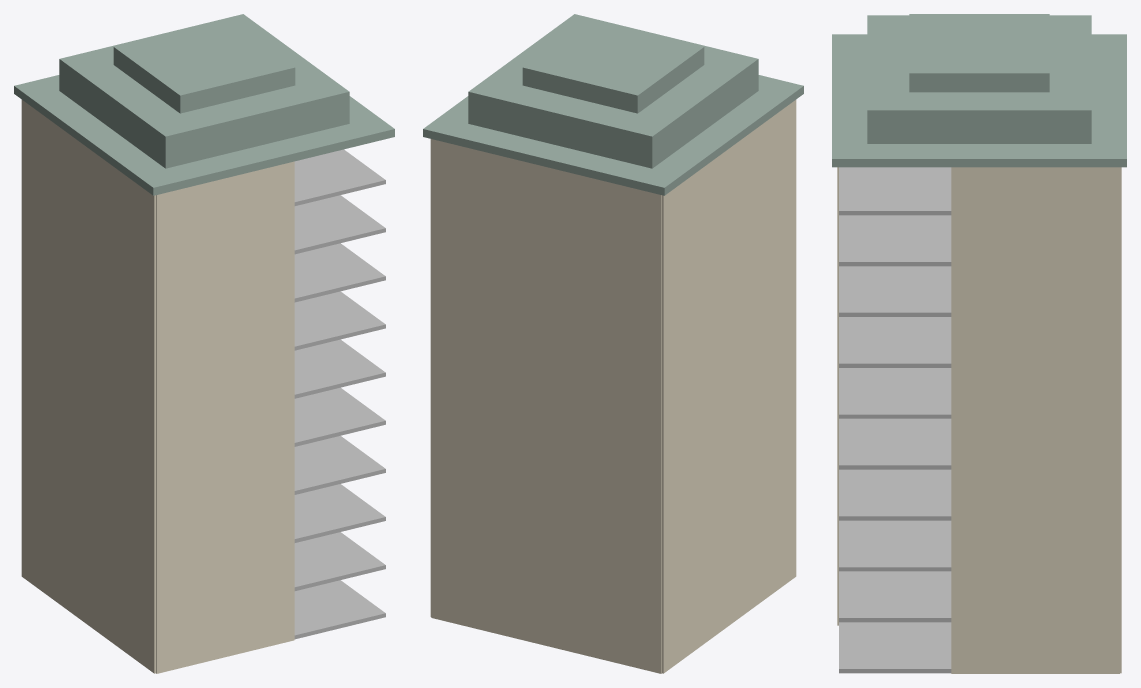
3 renders of one model, left to right at view 1: azimuth 30°, elevation 25°; view 2: azimuth 150°, elevation 25°; view 3: azimuth 270°, elevation 25°, orthographic. The views are drawn at different scales.
Bounding box in the file's own units: 6.3 × 13.45 × 6.3.
